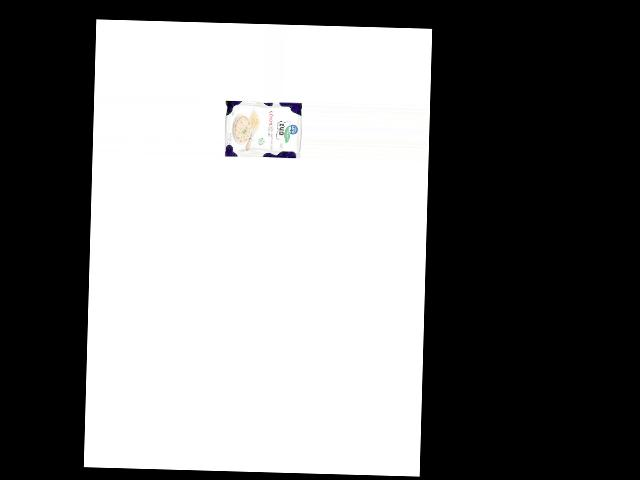cheese: (222, 98, 302, 159)
